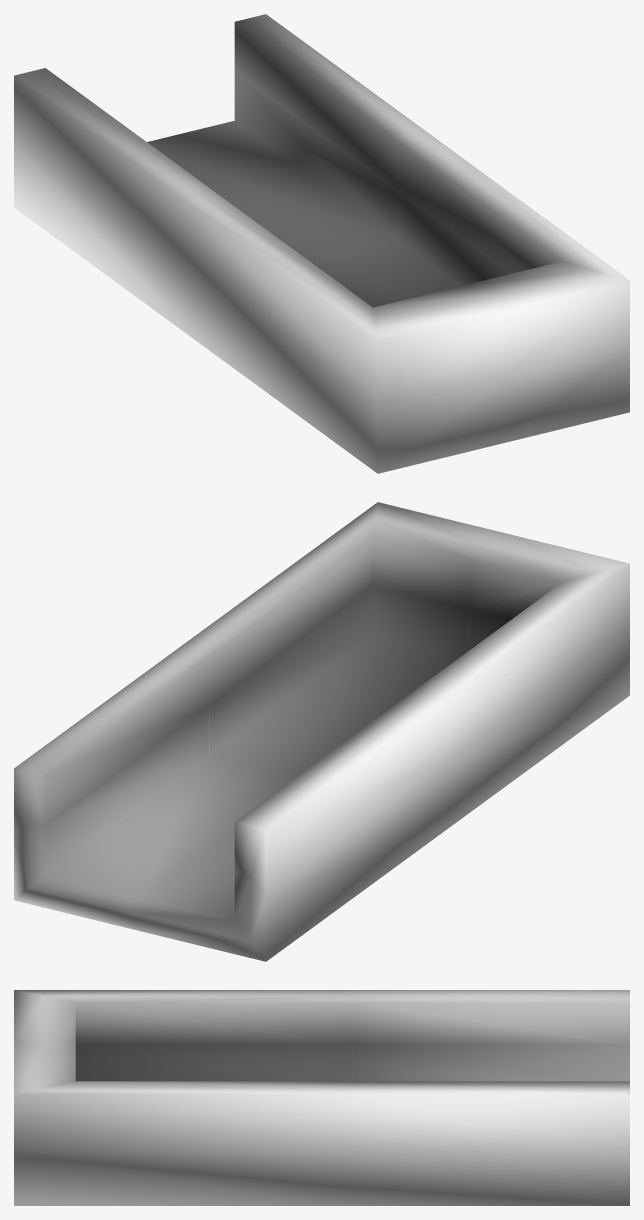
3 renders of one model, top to bottom at view 1: azimuth 30°, elevation 25°; view 2: azimuth 150°, elevation 25°; view 3: azimuth 270°, elevation 25°, orthographic. The views are drawn at different scales.
Visible parts, largest first — view 1: defaultobject; view 2: defaultobject; view 3: defaultobject.
Boxes of the visible parts, x1=… form: defaultobject: x1=14, y1=14, x2=629, y2=473; defaultobject: x1=14, y1=502, x2=629, y2=961; defaultobject: x1=14, y1=990, x2=629, y2=1205.
Size of the model in its own units: 0.25 by 0.125 by 0.625.
1 material, 1 textured.
